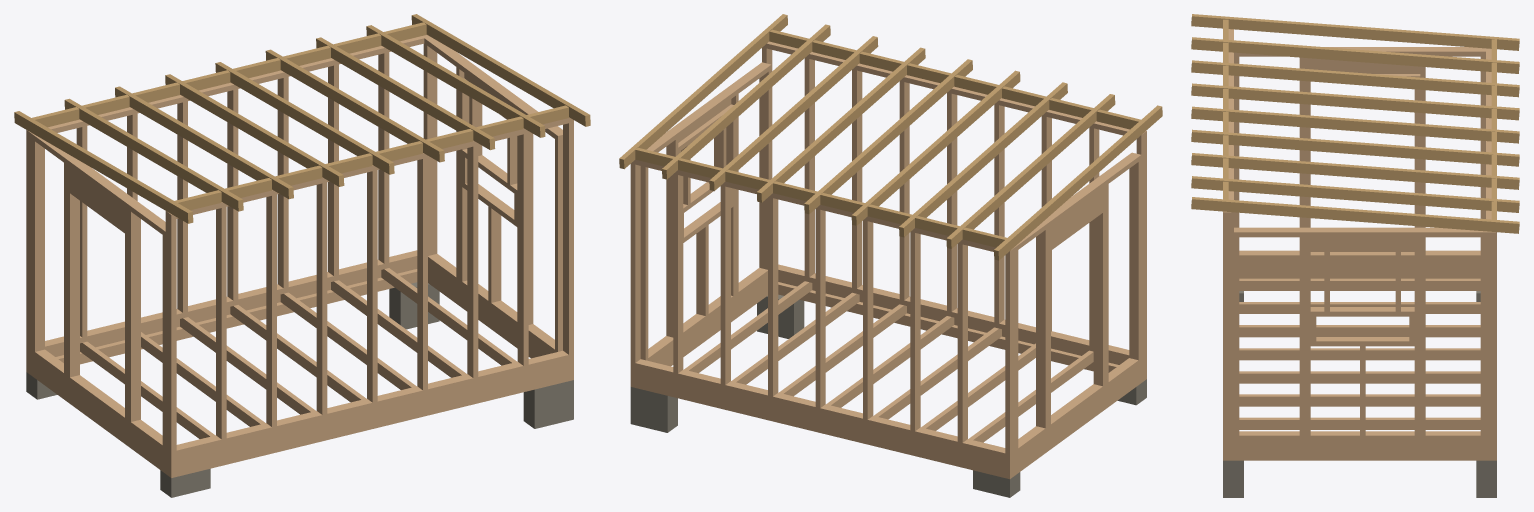
File: Бытовка.fbx
The picture shows the model from 3 angles, left to right: view 1: azimuth 30°, elevation 25°; view 2: azimuth 150°, elevation 25°; view 3: azimuth 270°, elevation 25°; orthographic projection. The views are drawn at different scales.
Parts seen in each view (by area): view 1: Group23, Group69, Group41, Group4, Group65, Group11, Group12, Group16, Group67, Group61, Group83, Group28 (+53 smaller); view 2: Group19, Group89, Group4, Group69, Group67, Group26, Group43, Group37, Group28, Group38, Group42, Group54 (+51 smaller); view 3: Group37, Group67, Group43, Group38, Group28, Group39, Group29, Group26, Group42, Group40, Group20, Group90 (+40 smaller).
Part boxes in pixels (<box>): Group23: <box>168,359,573,467</box>; Group69: <box>165,350,573,456</box>; Group41: <box>181,372,563,475</box>; Group4: <box>26,250,417,354</box>; Group65: <box>165,216,176,451</box>; Group11: <box>467,145,478,377</box>; Group12: <box>316,182,327,414</box>; Group16: <box>517,133,528,365</box>; Group67: <box>14,111,193,223</box>; Group61: <box>32,139,44,351</box>; Group83: <box>128,210,140,421</box>; Group28: <box>64,98,243,211</box>; Group19: <box>630,367,1012,469</box>; Group89: <box>640,379,1000,476</box>; Group4: <box>640,360,1015,459</box>; Group69: <box>778,264,1146,362</box>; Group67: <box>994,105,1162,260</box>; Group26: <box>804,59,972,214</box>; Group43: <box>709,36,878,191</box>; Group37: <box>619,14,787,169</box>; Group28: <box>946,94,1115,248</box>; Group38: <box>662,24,830,179</box>; Group42: <box>851,70,1020,225</box>; Group54: <box>1036,228,1048,428</box>; Group37: <box>1191,197,1519,233</box>; Group67: <box>1191,14,1519,50</box>; Group43: <box>1191,153,1519,189</box>; Group38: <box>1191,176,1519,212</box>; Group28: <box>1191,37,1519,73</box>; Group39: <box>1191,129,1519,166</box>; Group29: <box>1191,60,1519,97</box>; Group26: <box>1191,106,1519,143</box>; Group42: <box>1191,83,1519,120</box>; Group40: <box>1223,450,1496,460</box>; Group20: <box>1228,440,1491,450</box>; Group90: <box>1239,371,1480,383</box>.
Size of the model in its own units: 400 by 301 by 300.
